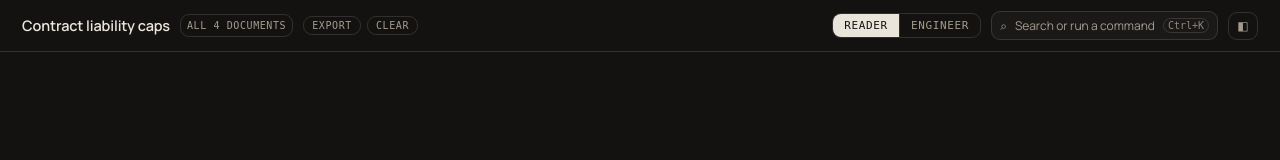
Test: ChatHeader › focuses Cancel on the clear confirm, and Escape backs out of it
Click the button with test id "chat-header-clear".
click(393, 26)  # box [367,16,418,35]
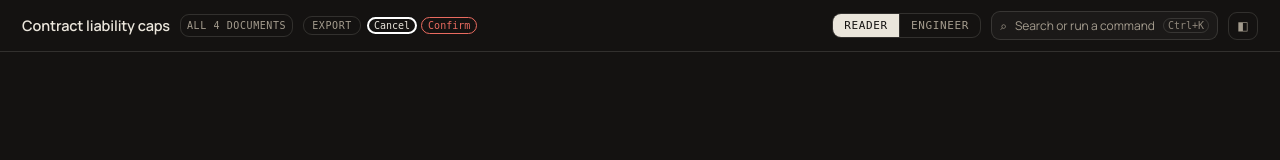
Press Escape
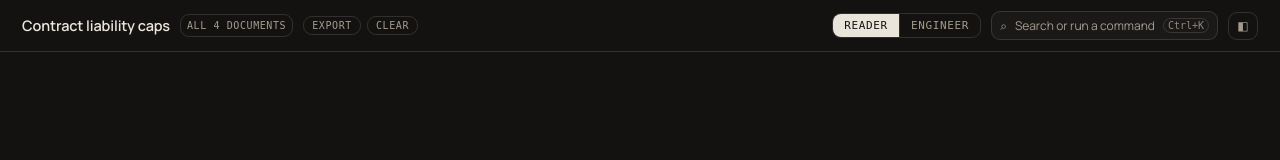
Check: the button with test id "chat-header-clear-confirm" is gone
